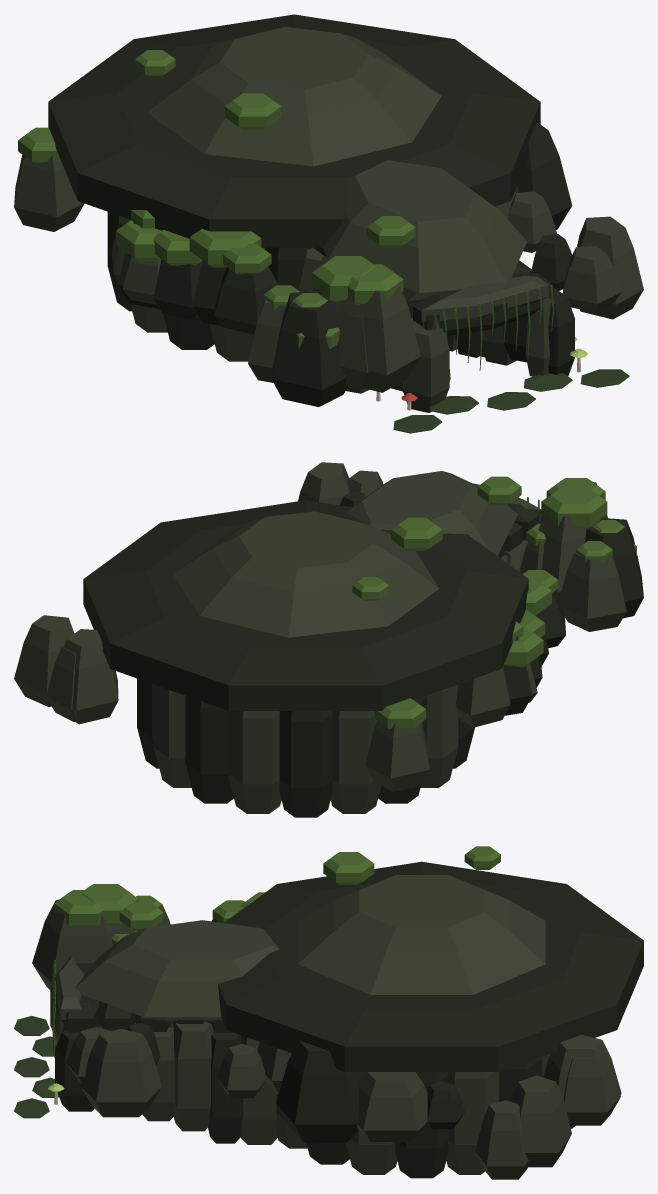
Rendered from cave_swamp.glb.
3 renders of one model, top to bottom at view 1: azimuth 30°, elevation 25°; view 2: azimuth 150°, elevation 25°; view 3: azimuth 270°, elevation 25°, orthographic. The views are drawn at different scales.
Parts seen in each view (by area): view 1: cave_swamp; view 2: cave_swamp; view 3: cave_swamp.
Boxes of the visible parts, <box> form: cave_swamp: <box>14,14,643,433</box>; cave_swamp: <box>14,462,643,817</box>; cave_swamp: <box>14,846,643,1179</box>.
Bounding box in the file's own units: 40.33 × 19.83 × 51.68.
